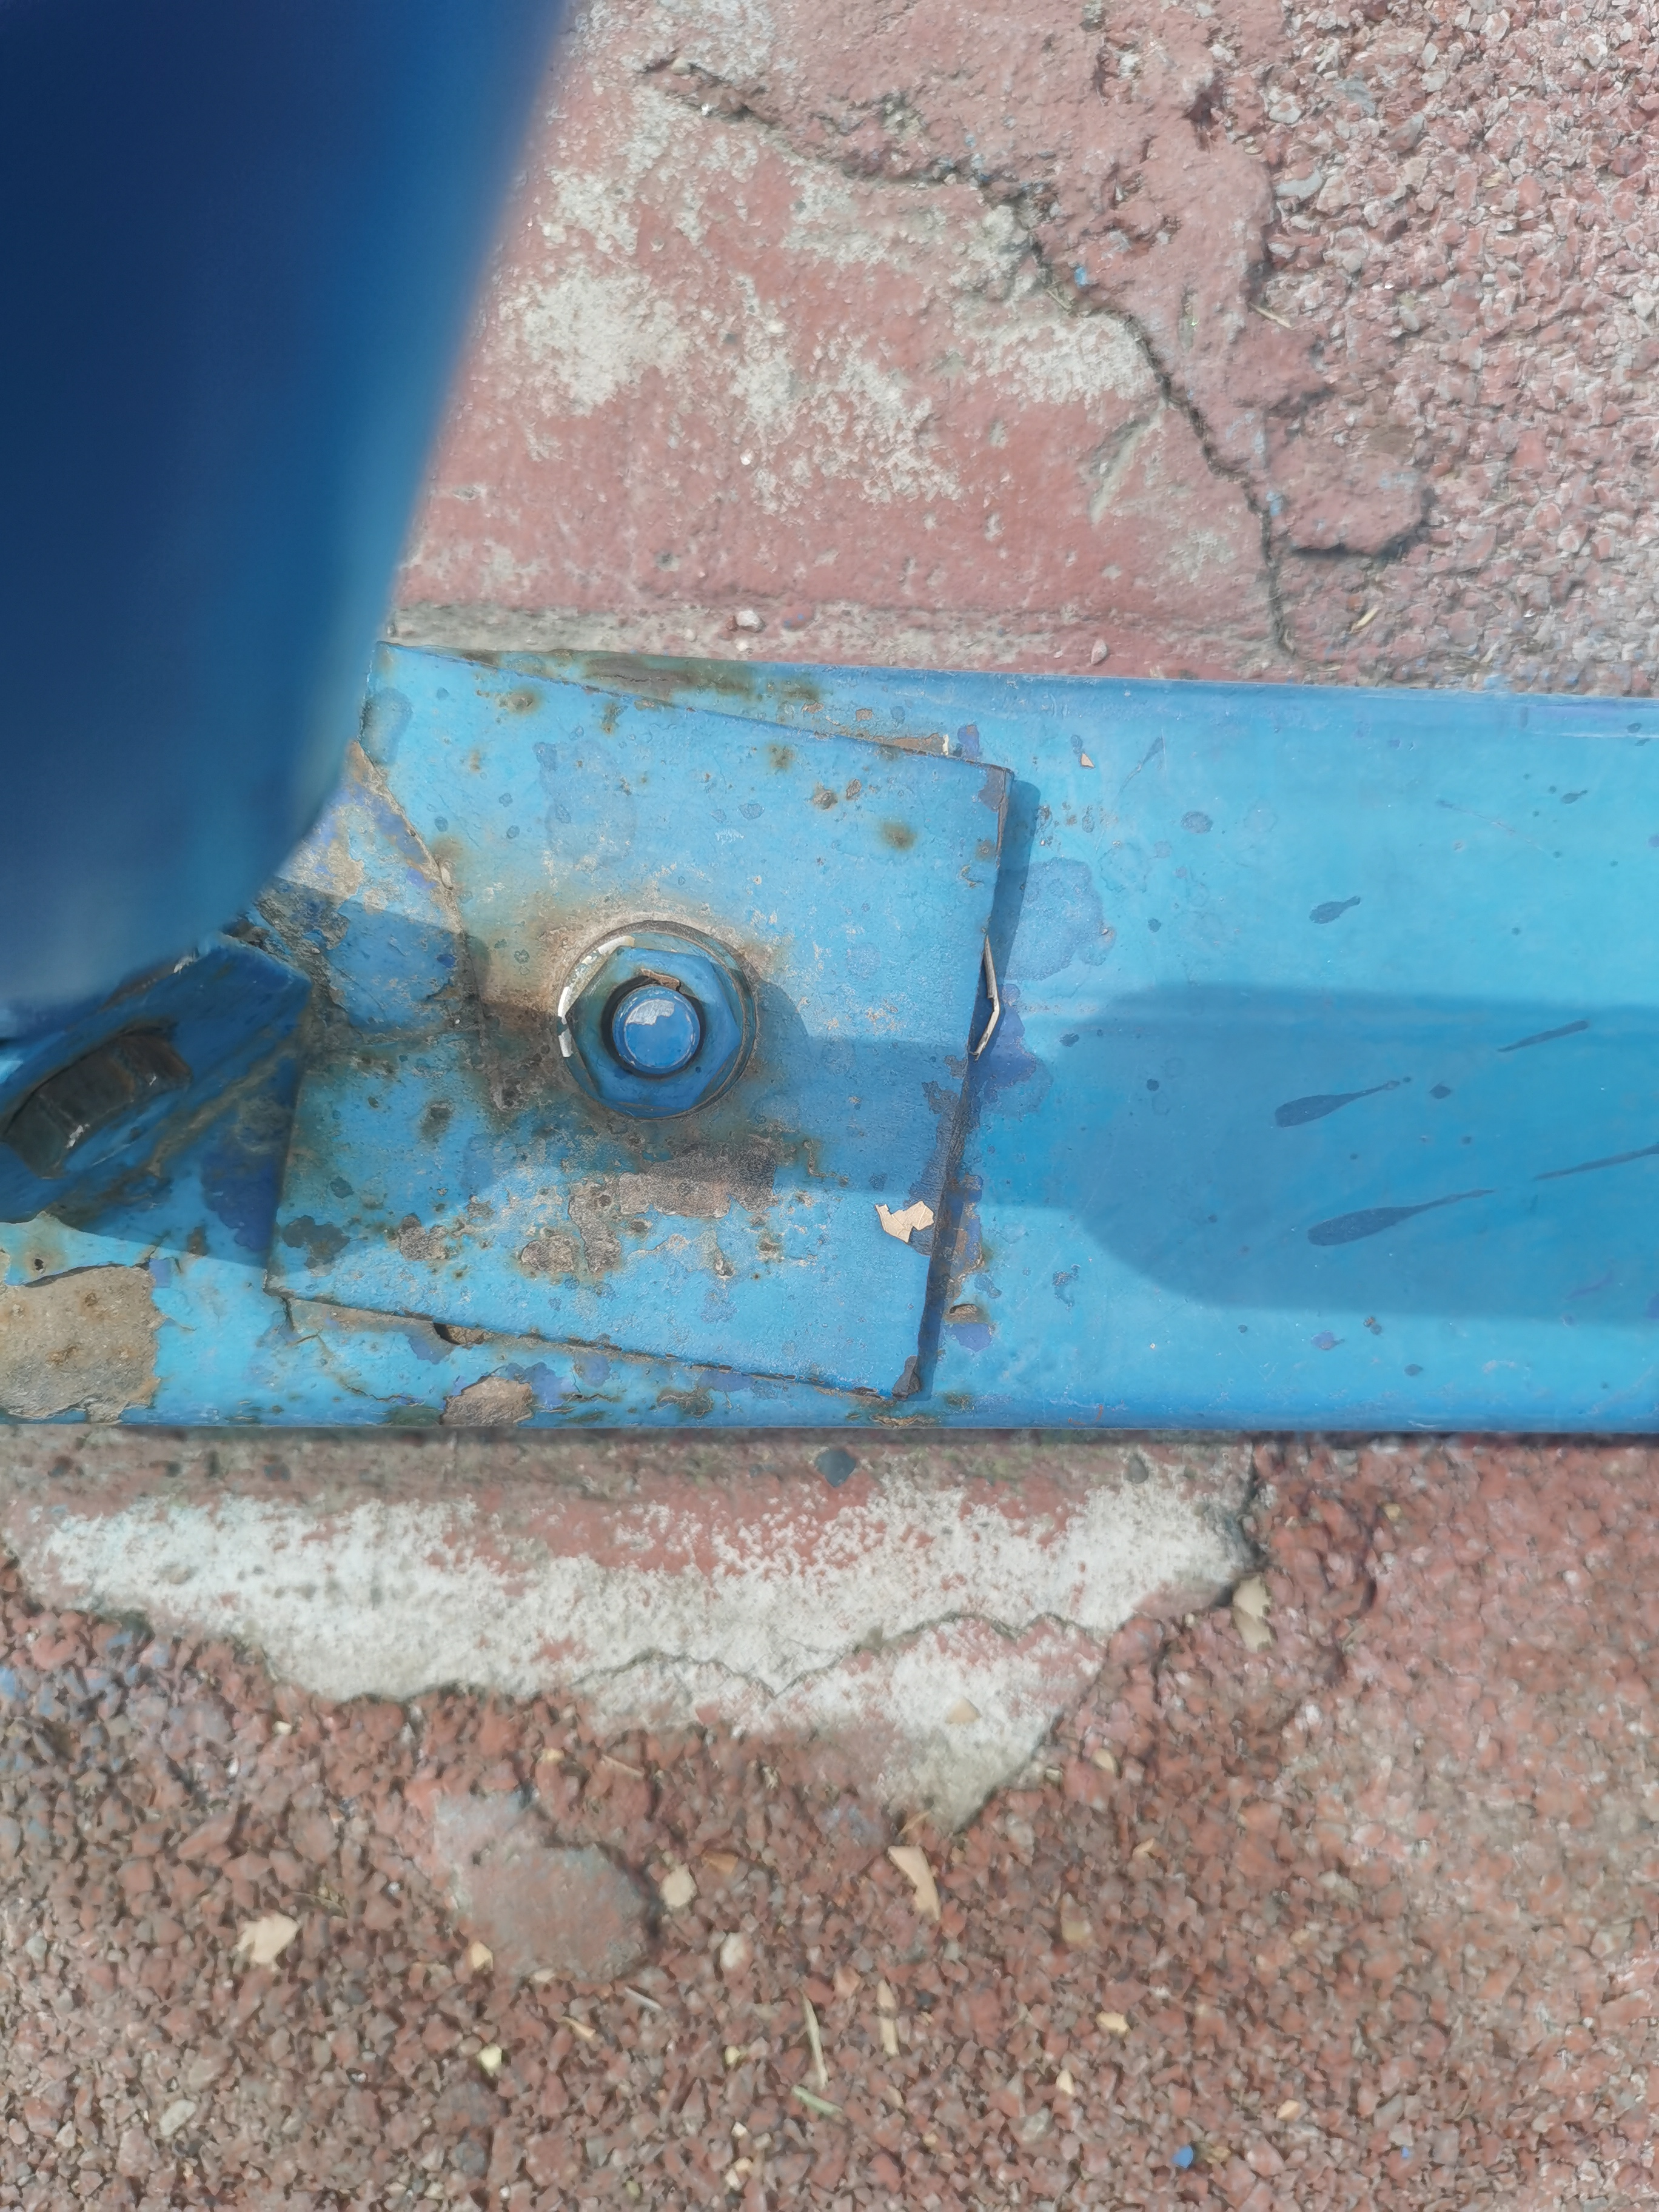bolt_b: (561, 941, 748, 1118)
bolt_c: (3, 1019, 193, 1184)
